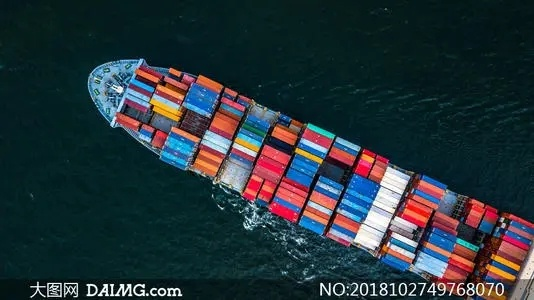Cargoship: (86, 56, 534, 296)
